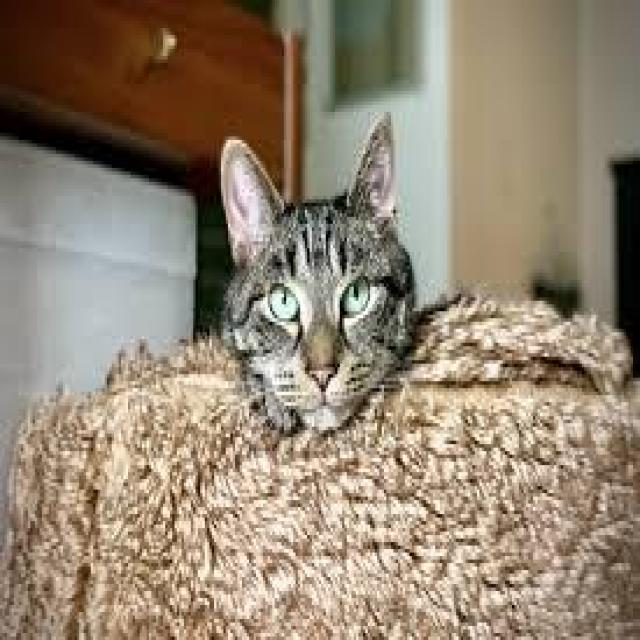Cat: (216, 110, 428, 446)
